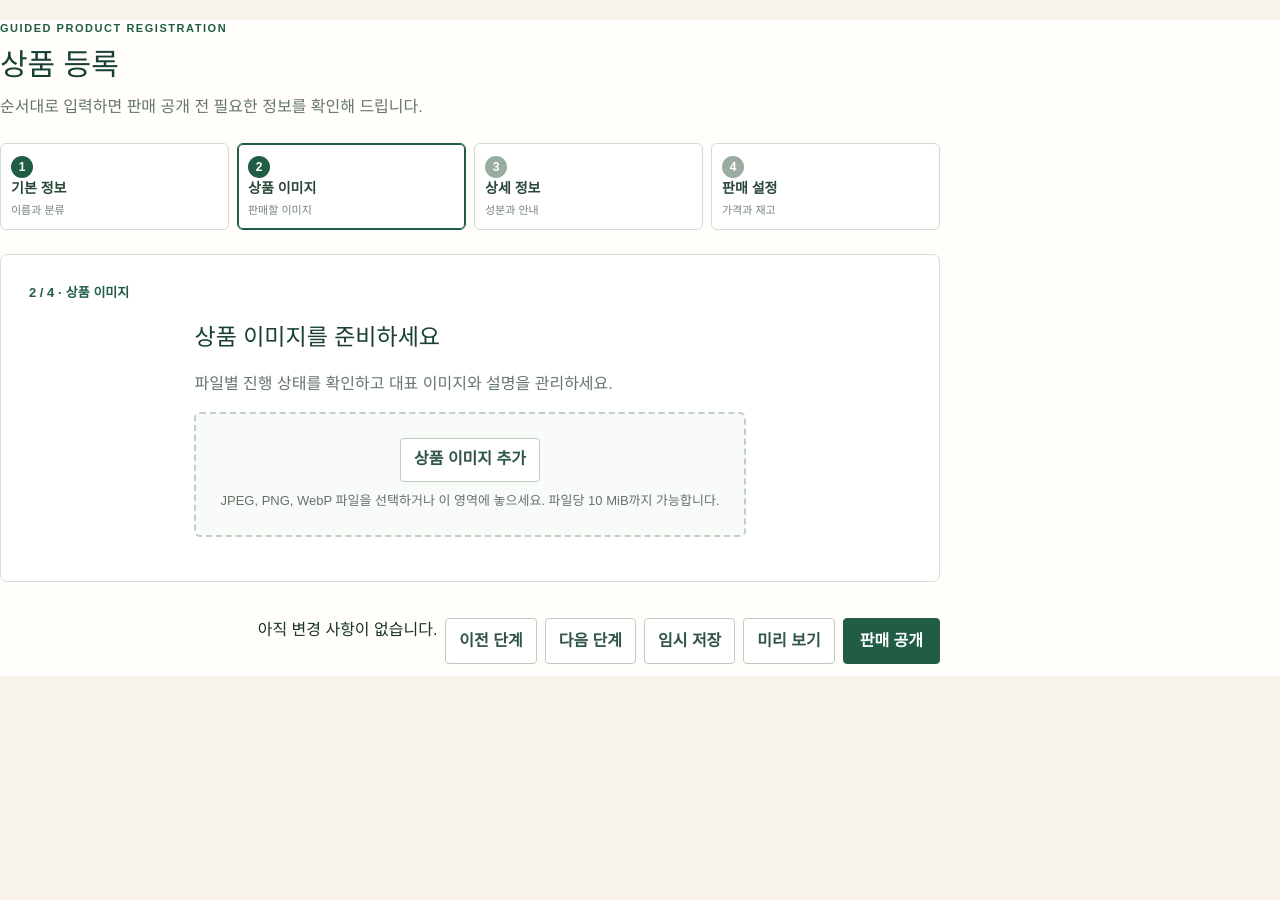
Scenario: adds and removes detail rows with named controls
This screenshot has width=1280, height=900.
Later steps or results of the test are not shown.
Step 1. Click the button with aria-label "다음 단계: 상세 정보" → (590, 641), box [545, 618, 636, 664]
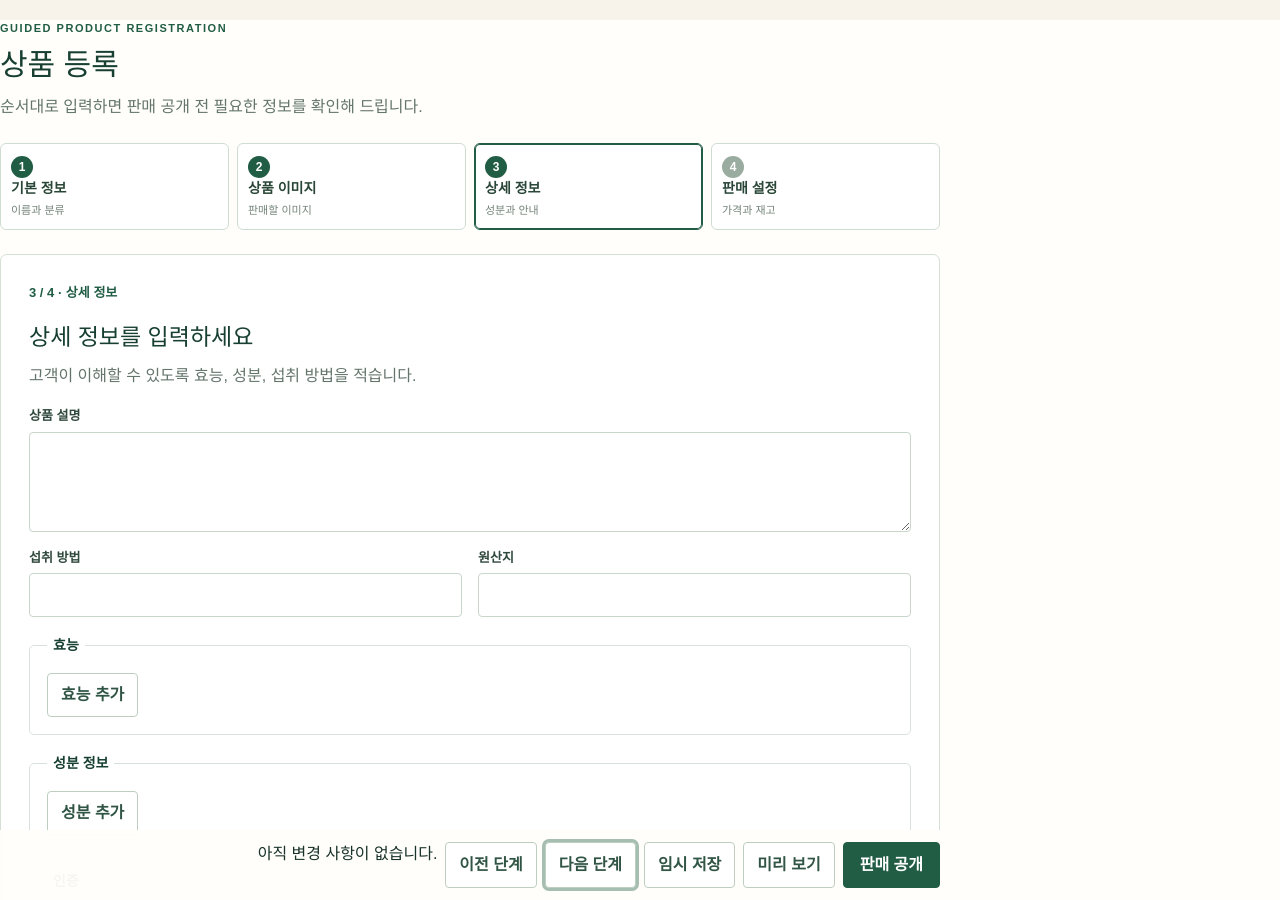
Step 2. Click the button "효능 추가" → (93, 695), box [47, 673, 138, 717]
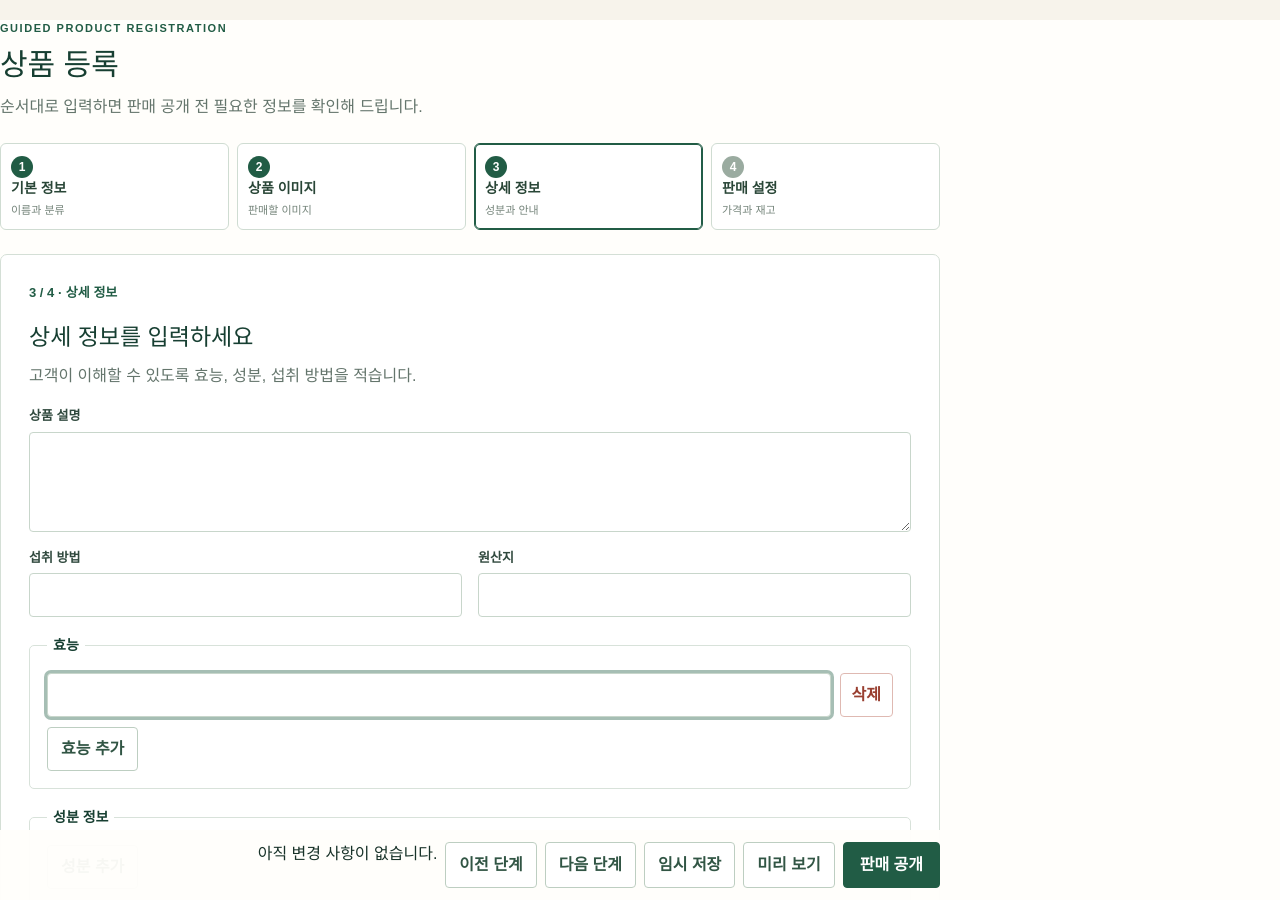
Now the element named "효능 1" is shown, box [47, 673, 893, 717]
